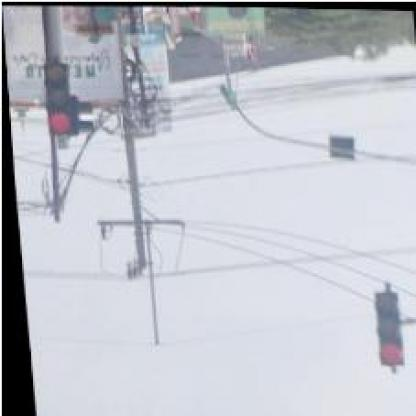red: (368, 288, 398, 364), (40, 60, 70, 134)
